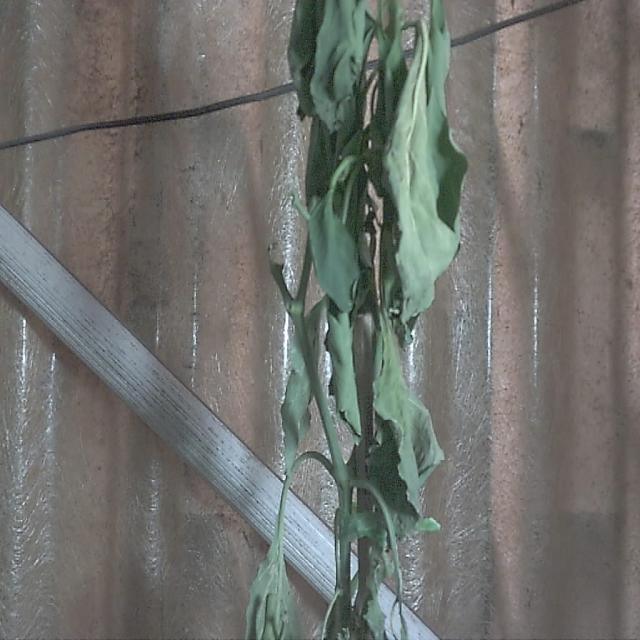Leaf: (380, 24, 460, 327), (376, 325, 443, 516), (307, 189, 358, 314)
